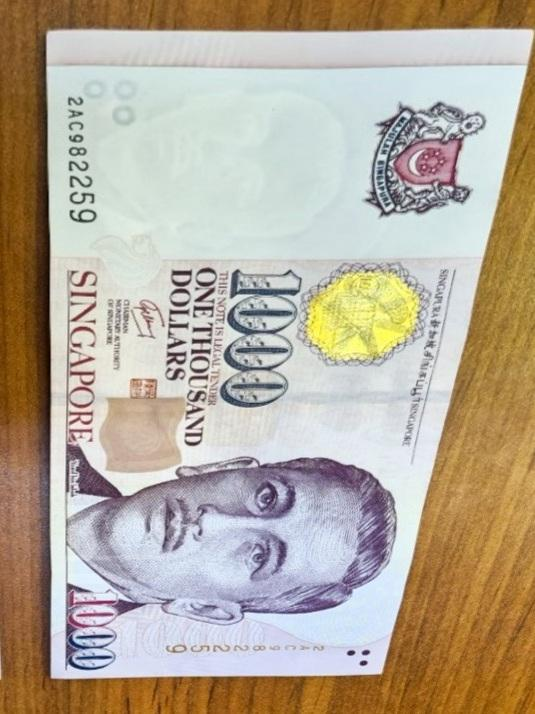1000SingaporeDollar: (53, 37, 487, 675)
